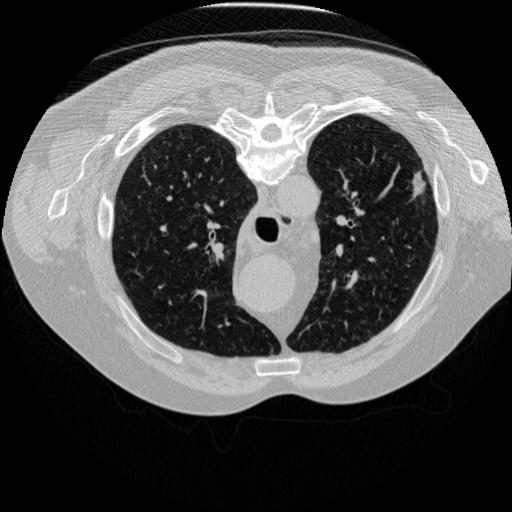nodule: (407, 173, 427, 193)
